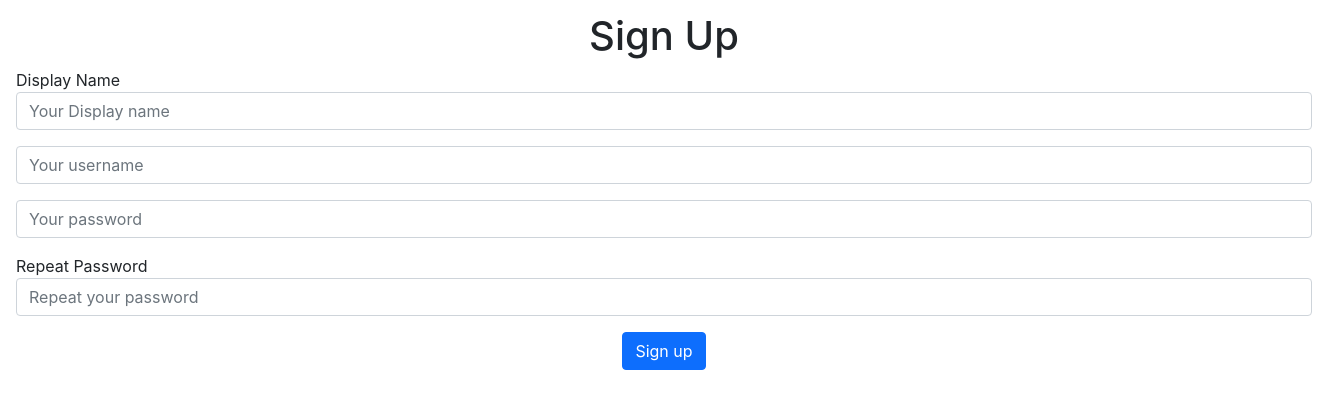
UserSignupPage › Interaction › display validation error for displayname when error is receive for the field
Type "my-display-name" into the field with placeholder "Your Display name" at x=664, y=111, box [16,92,1312,130]
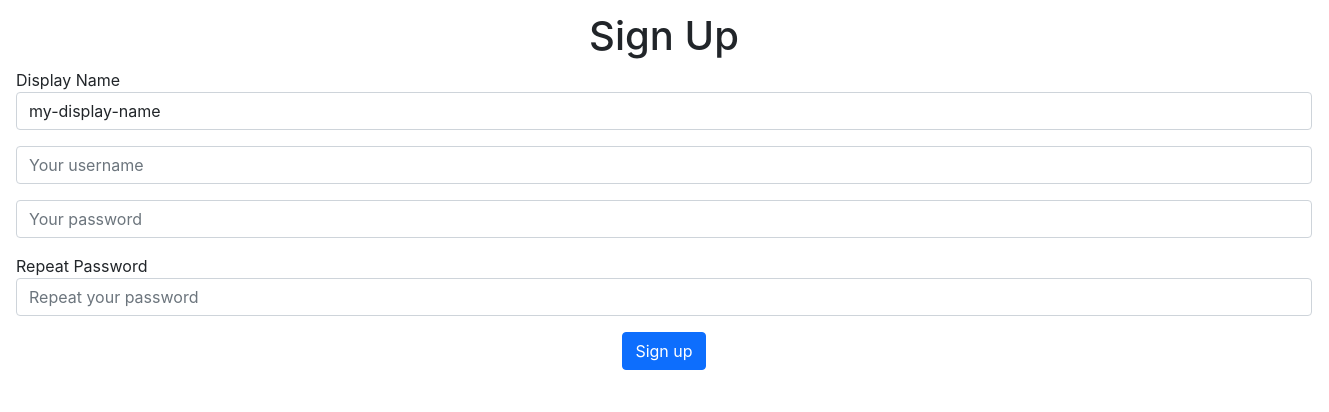
Type "my-user-name" into the field with placeholder "Your username" at x=664, y=165, box [16,146,1312,184]
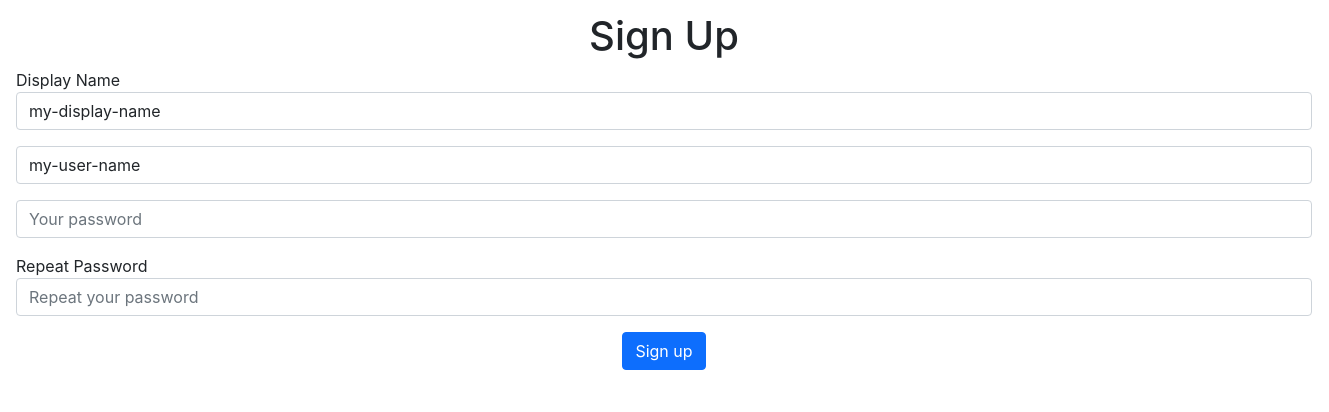
Type "P@ssword" into the password field with placeholder "Your password" at x=664, y=219, box [16,200,1312,238]
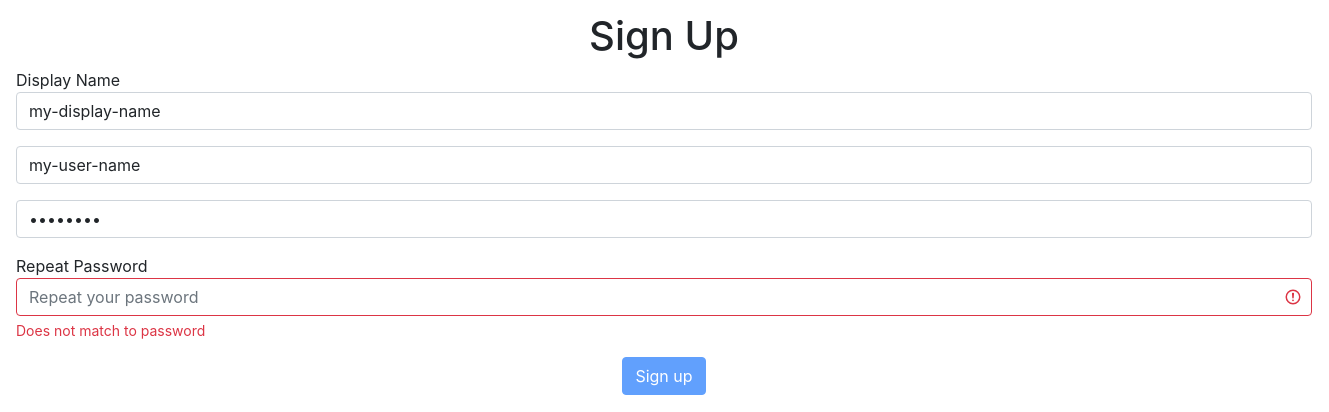
Type "P@ssword" into the password field with placeholder "Repeat your password" at x=664, y=297, box [16,278,1312,316]
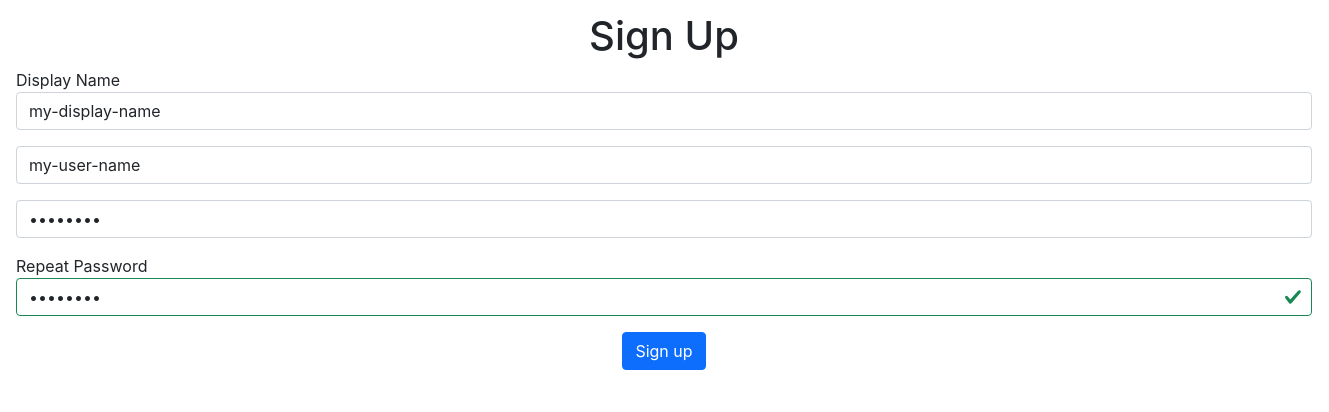
Click the button "Sign up" at x=664, y=351, box [622,332,706,370]
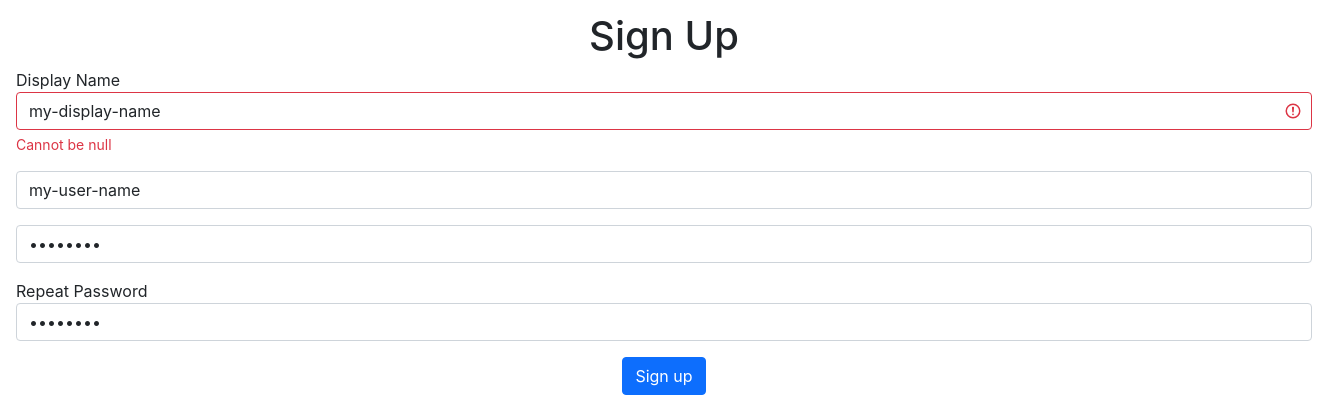
Check: the text "Cannot be null" is shown, box [16,136,112,153]
